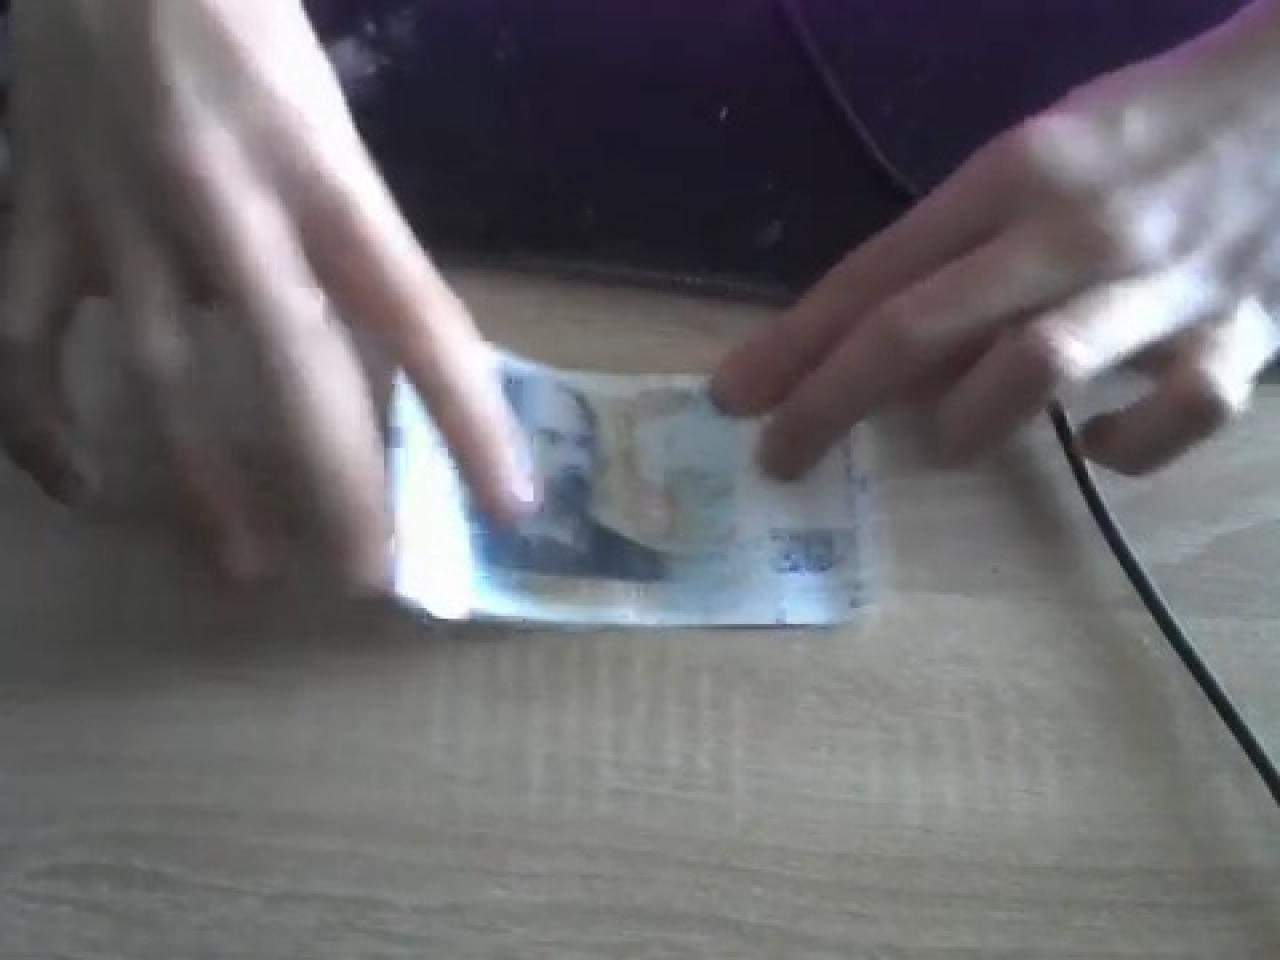20leva: (379, 341, 883, 634)
